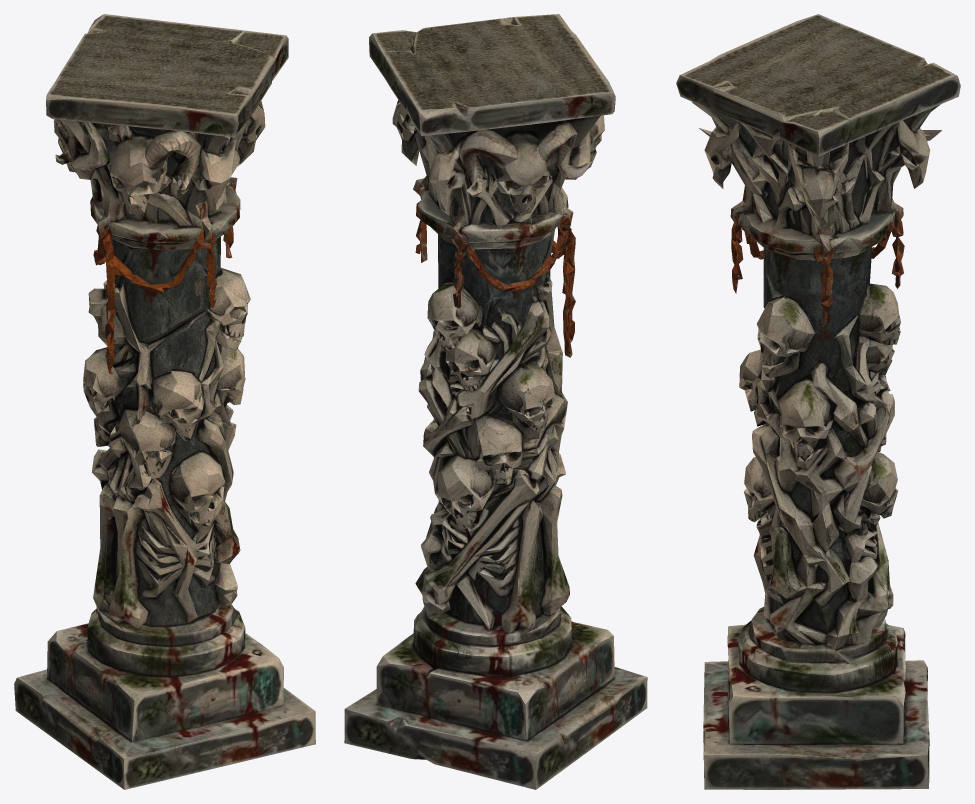
File: prop_pillar.glb
3 renders of one model, left to right at view 1: azimuth 30°, elevation 25°; view 2: azimuth 150°, elevation 25°; view 3: azimuth 270°, elevation 25°, orthographic.
Parts seen in each view (by area): view 1: Pillar; view 2: Pillar; view 3: Pillar.
Boxes of the visible parts, x1,y1,x2,y2 form: Pillar: (14, 14, 315, 789); Pillar: (344, 14, 647, 789); Pillar: (676, 14, 960, 789).
Bounding box in the file's own units: 2.71 × 7 × 2.69.
Materials: 1 (1 with a texture image).
